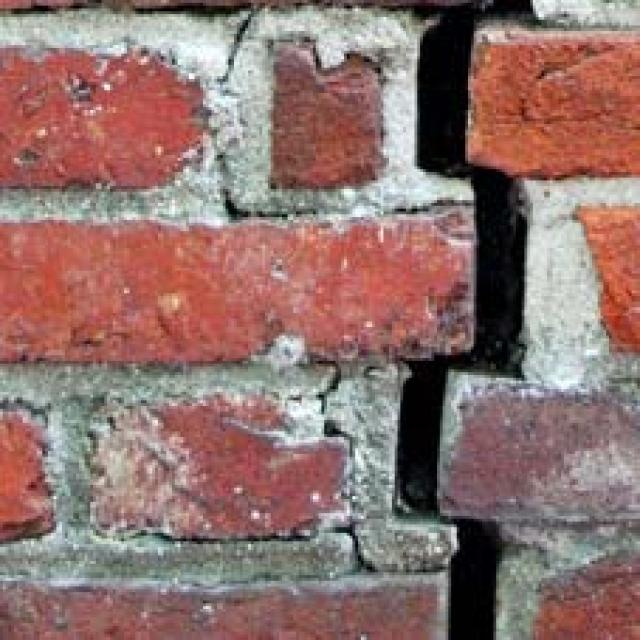Crack: (317, 4, 616, 640)
